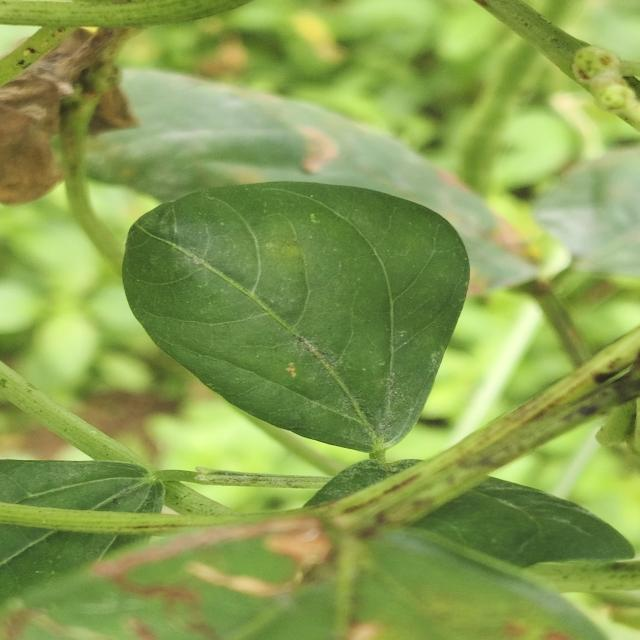leaf-low: (122, 182, 469, 459), (381, 477, 640, 640), (0, 373, 169, 518), (0, 521, 142, 611), (305, 459, 420, 509)
leaf-moderate: (83, 153, 510, 484), (0, 28, 140, 205)
sitaw-aphid-low: (2, 513, 338, 640)
